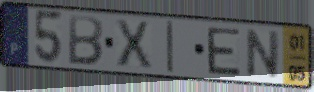5: (33, 8, 65, 68)
B: (66, 13, 106, 68)
E: (205, 26, 243, 78)
I: (165, 19, 176, 75)
N: (245, 27, 282, 80)
X: (113, 18, 154, 70)
